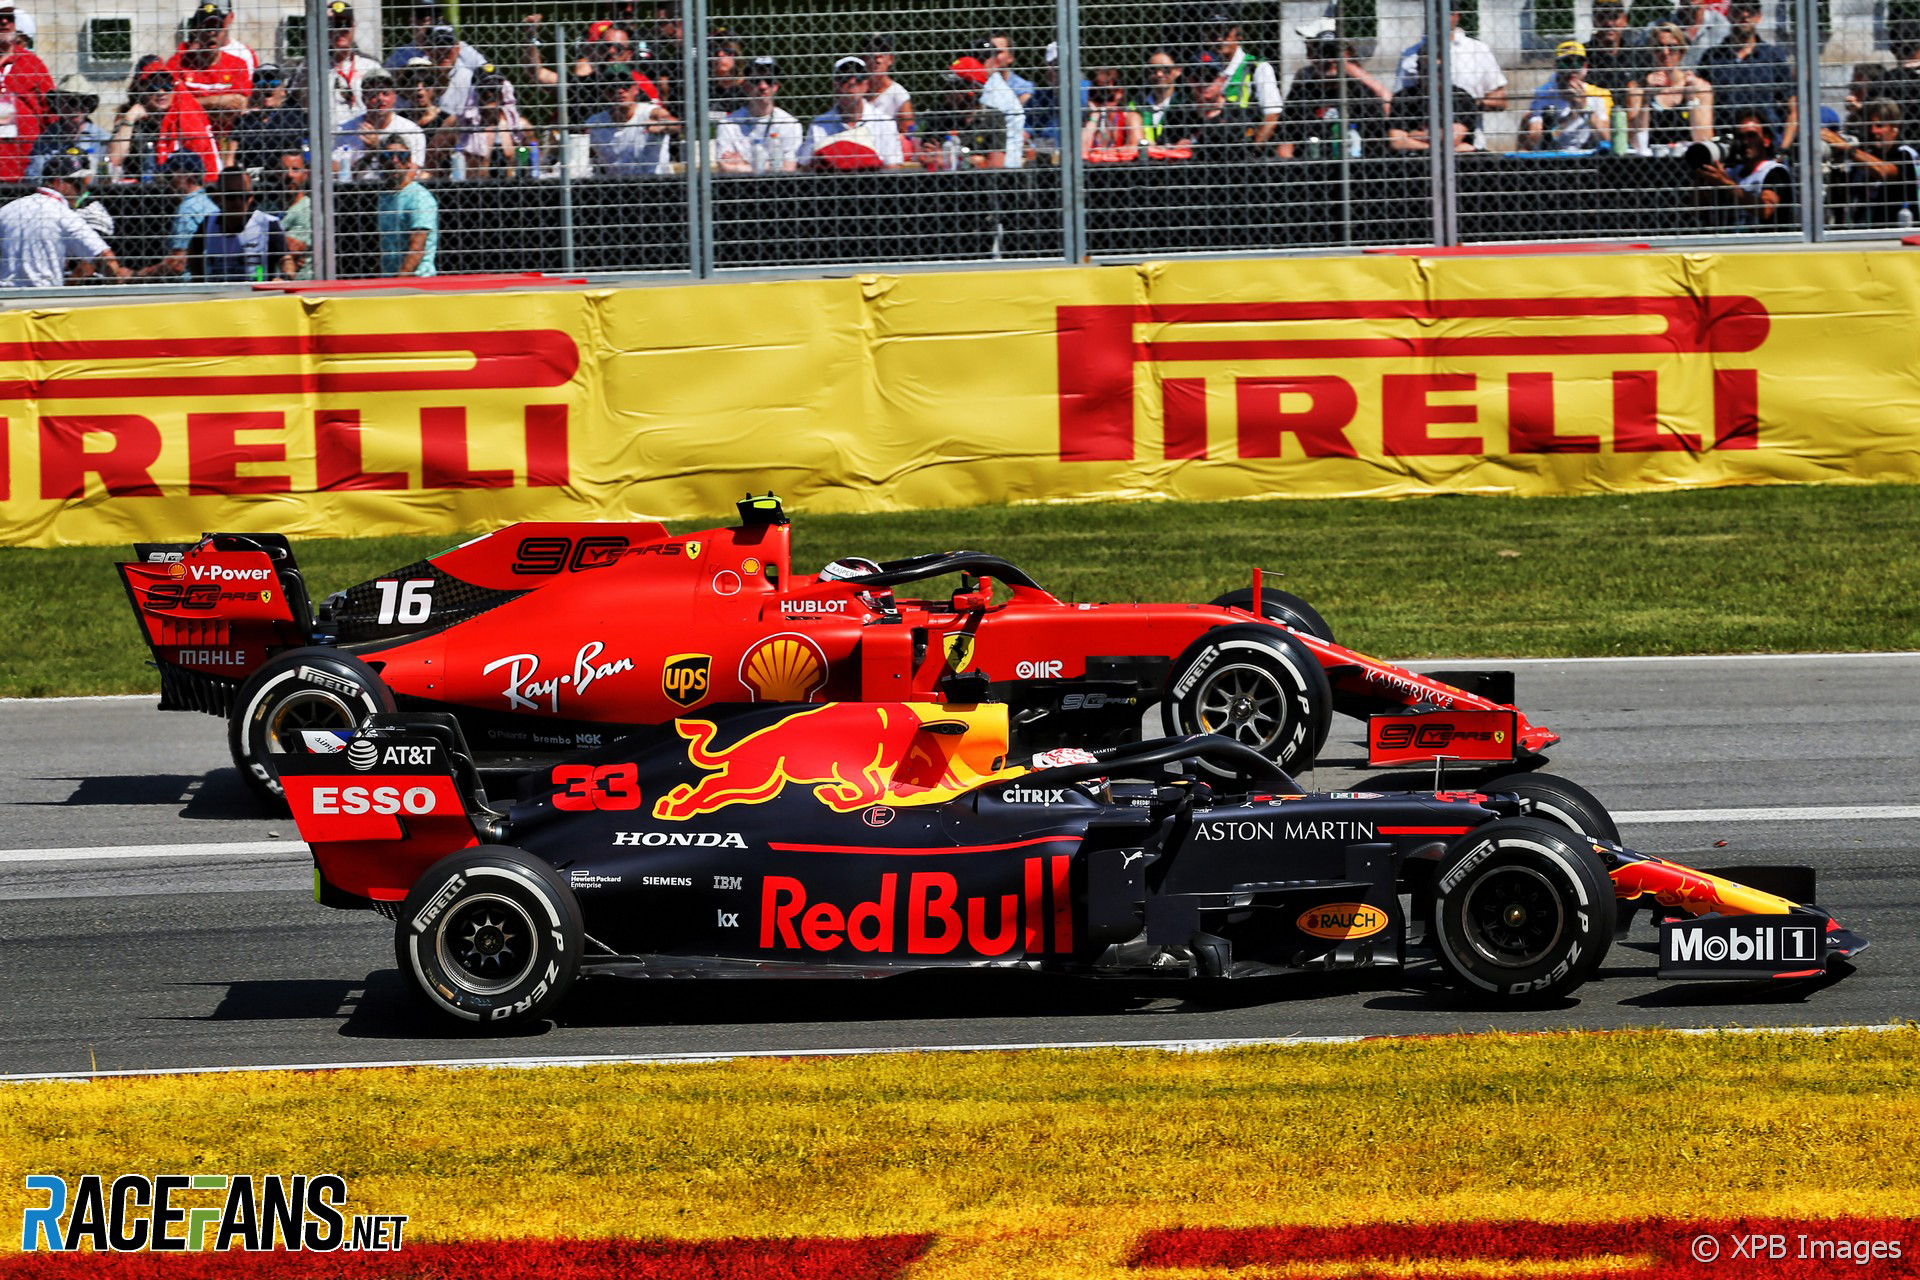F1 Car: (280, 679, 1870, 1031), (106, 486, 1566, 763)
